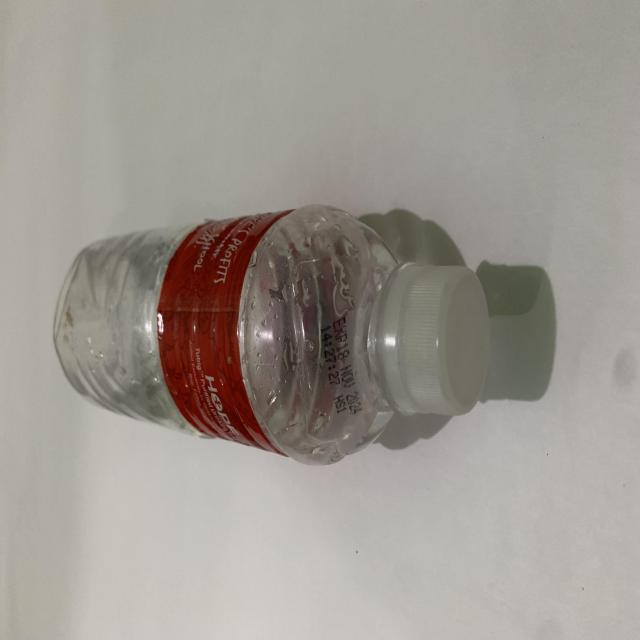bottle: (50, 227, 495, 470)
